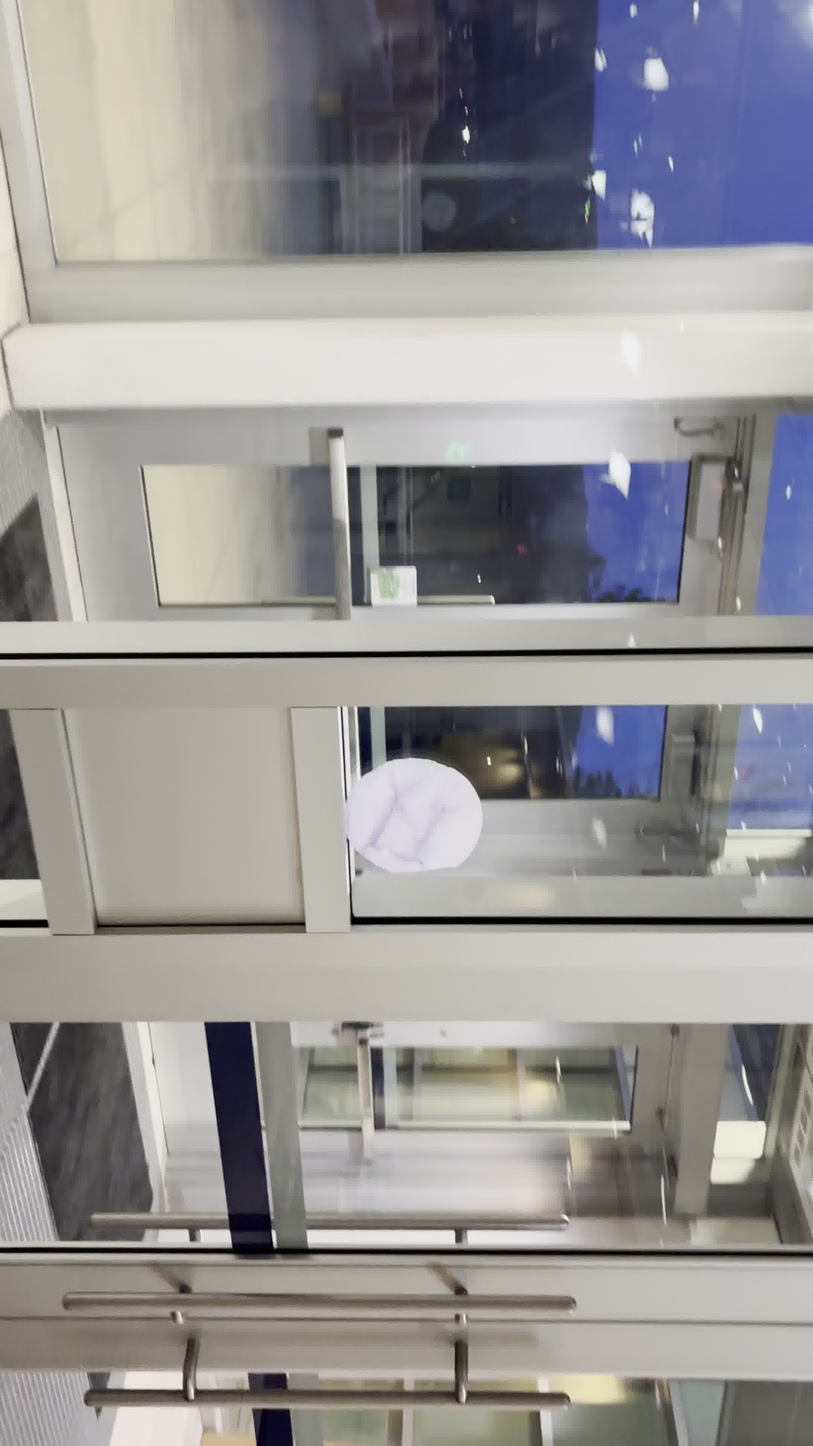Target: (342, 757, 484, 875)
